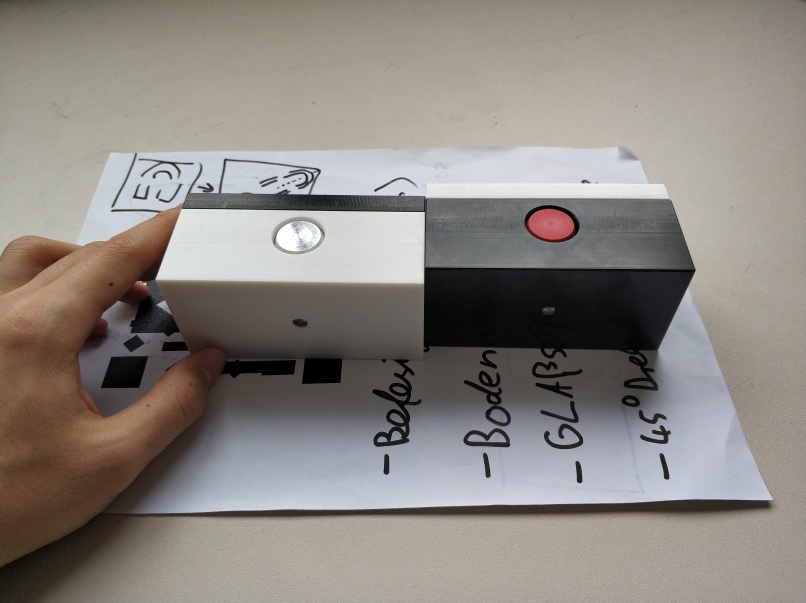black+white+silver: (154, 191, 423, 363)
white+black+red: (423, 180, 698, 352)
